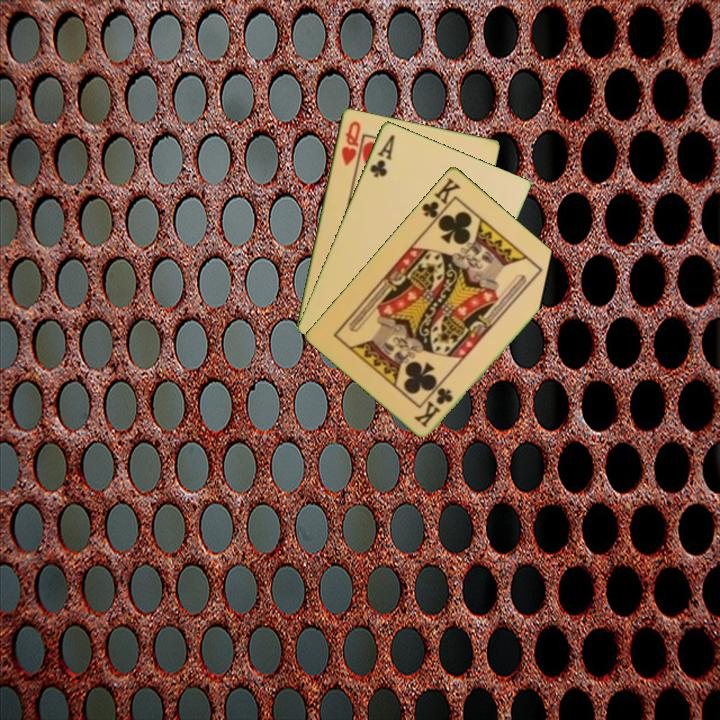Ac: (366, 130, 398, 180)
Kc: (418, 174, 464, 226), (411, 384, 456, 430)
Qh: (338, 117, 363, 168)
